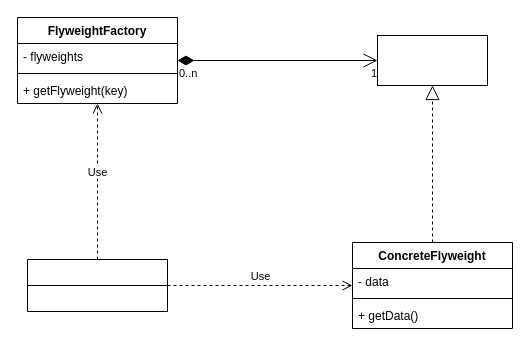
The diagram is 530 pixels wide and 349 high, and some of its shapes have lost their labels. Each missing label, with the centre of its shape:
Client: the point at 97,285
«interface» Flyweight: the point at 432,60
